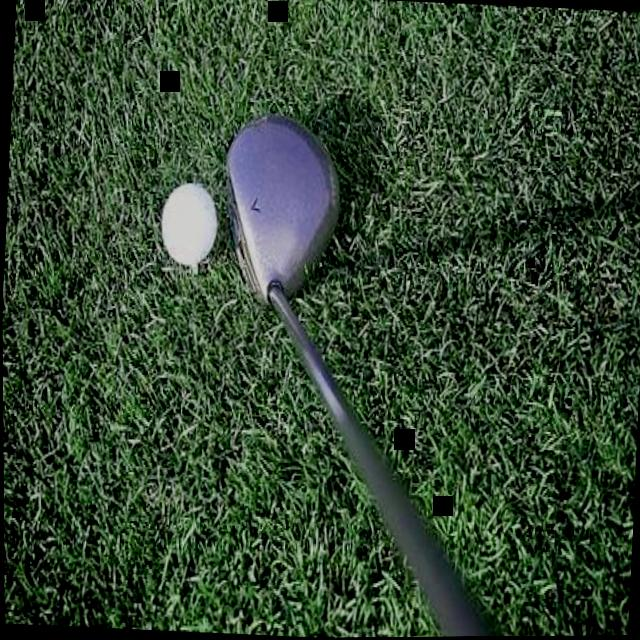golf ball: (147, 175, 228, 280)
